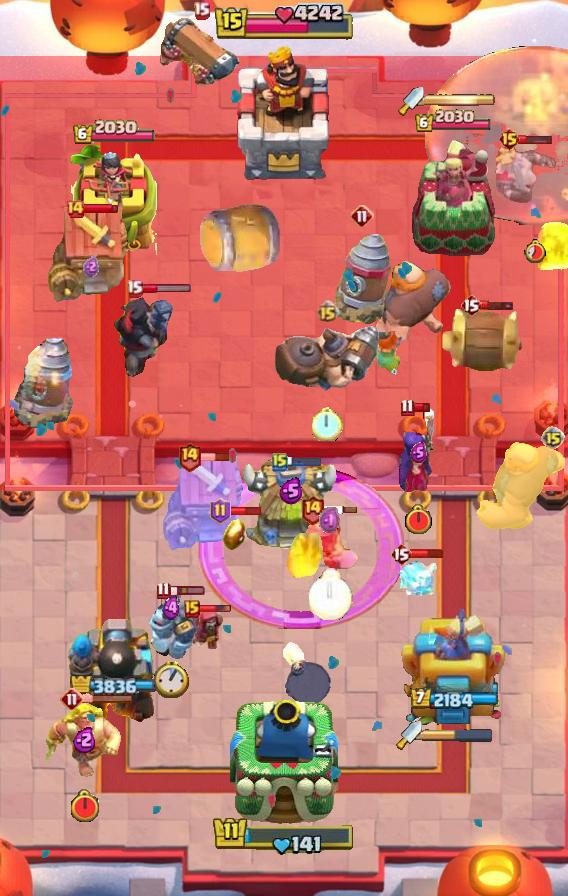axe: (395, 406, 441, 494)
baby-dragon: (280, 642, 332, 704)
balloon: (474, 440, 568, 532), (373, 260, 453, 348)
bandit: (300, 507, 360, 575)
bar: (401, 601, 505, 731), (409, 138, 497, 256)
bat: (397, 559, 439, 601)
battle-healer: (160, 14, 242, 98)
bomber: (221, 516, 247, 552)
bowler: (188, 609, 226, 655)
clock: (212, 815, 356, 857), (213, 3, 355, 43)
dirt: (199, 202, 283, 276)
electro-spirit: (279, 477, 303, 505), (319, 505, 342, 534), (73, 727, 97, 754), (162, 595, 182, 621), (409, 441, 426, 462), (83, 255, 99, 277)
elixir: (308, 568, 352, 620), (154, 660, 190, 698), (69, 789, 101, 824), (313, 406, 343, 441), (403, 504, 432, 536), (525, 239, 548, 263)
elixir-golem-small: (141, 590, 201, 660)
emote: (82, 693, 134, 704), (141, 283, 192, 294), (170, 585, 207, 597), (518, 133, 554, 145), (83, 203, 119, 215), (479, 299, 515, 311), (286, 456, 322, 468), (229, 505, 264, 517), (410, 549, 444, 560), (322, 505, 358, 515), (201, 452, 236, 462), (198, 604, 232, 614), (413, 402, 432, 413)
goblin-hut: (46, 701, 124, 779)
hog-rider: (370, 326, 408, 378)
inferno-dragon: (111, 292, 179, 380)
king-tower: (230, 43, 338, 181), (230, 698, 338, 826)
king-tower-bar: (424, 93, 496, 107), (422, 728, 494, 742)
knight-evolution: (198, 466, 406, 630)
magic-archer: (332, 232, 392, 326), (14, 337, 74, 429)
mortar-evolution: (493, 142, 559, 208)
phoenix-egg: (424, 45, 567, 225)
prince: (240, 458, 342, 554)
queen-tower: (71, 144, 157, 255)
selected: (72, 118, 156, 145), (410, 688, 499, 712), (414, 110, 492, 135), (69, 677, 158, 695)
sparky: (48, 206, 134, 304), (163, 454, 249, 552)
text: (300, 494, 325, 525), (178, 441, 202, 472), (350, 204, 374, 228), (541, 426, 565, 450), (60, 687, 84, 711), (209, 498, 231, 524), (498, 127, 521, 151), (317, 300, 340, 323), (460, 293, 482, 317), (390, 542, 412, 566), (65, 199, 85, 219), (193, 1, 211, 20), (125, 279, 142, 298), (272, 452, 288, 472), (184, 600, 200, 618), (156, 581, 171, 599), (401, 399, 415, 417)
the-log: (440, 307, 530, 375)
tower-bar: (67, 611, 161, 731)
valkyrie: (534, 216, 568, 274), (286, 533, 326, 581)
wizard: (271, 323, 383, 393)
